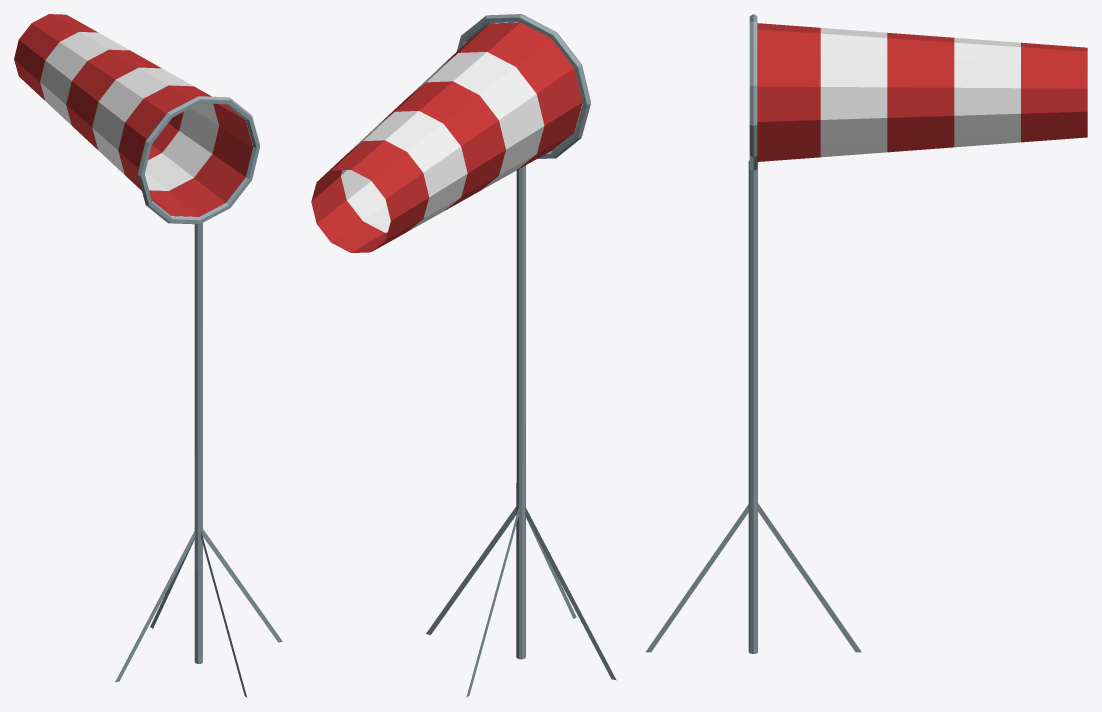
The model's file is Windsock.glb.
3 views of the same model, side by side, from view 1: azimuth 30°, elevation 25°; view 2: azimuth 150°, elevation 25°; view 3: azimuth 270°, elevation 25° (orthographic). The views are drawn at different scales.
Parts seen in each view (by area): view 1: Torus.001, Plane.001; view 2: Torus.001, Plane.001; view 3: Torus.001, Plane.001.
Part boxes in pixels (x1,y1,x2,y2): Torus.001: (14, 14, 259, 224); Plane.001: (115, 222, 282, 697); Torus.001: (311, 14, 590, 252); Plane.001: (426, 165, 616, 697); Torus.001: (749, 14, 1087, 170); Plane.001: (645, 160, 861, 653).
Size of the model in its own units: 4.3 by 13.84 by 8.79.
